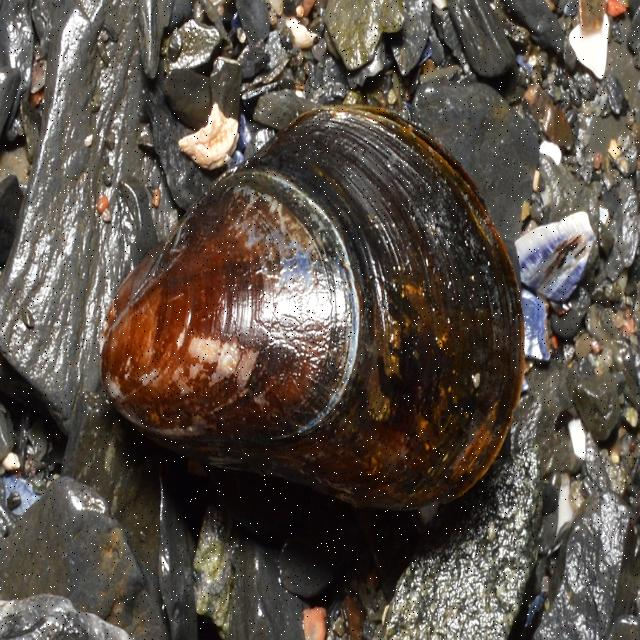Mytilus_galloprovincialis: (99, 103, 525, 508)
